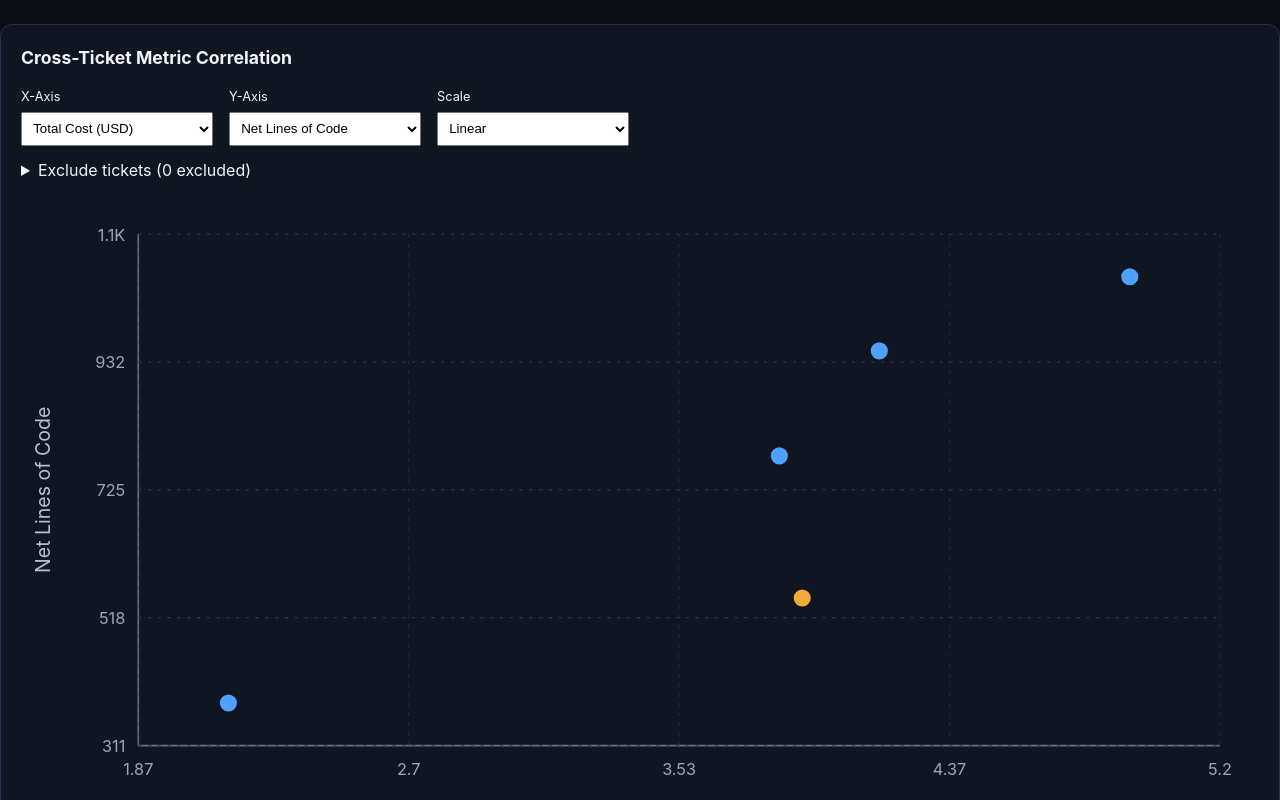
TicketScatterPlot › allows independent metric selection and switching to log scale
The image size is (1280, 800).
Select "Active Duration" in the dropdown labelled "X-Axis". click: x=117, y=129
box: top-left (21, 112), bottom-right (213, 146)
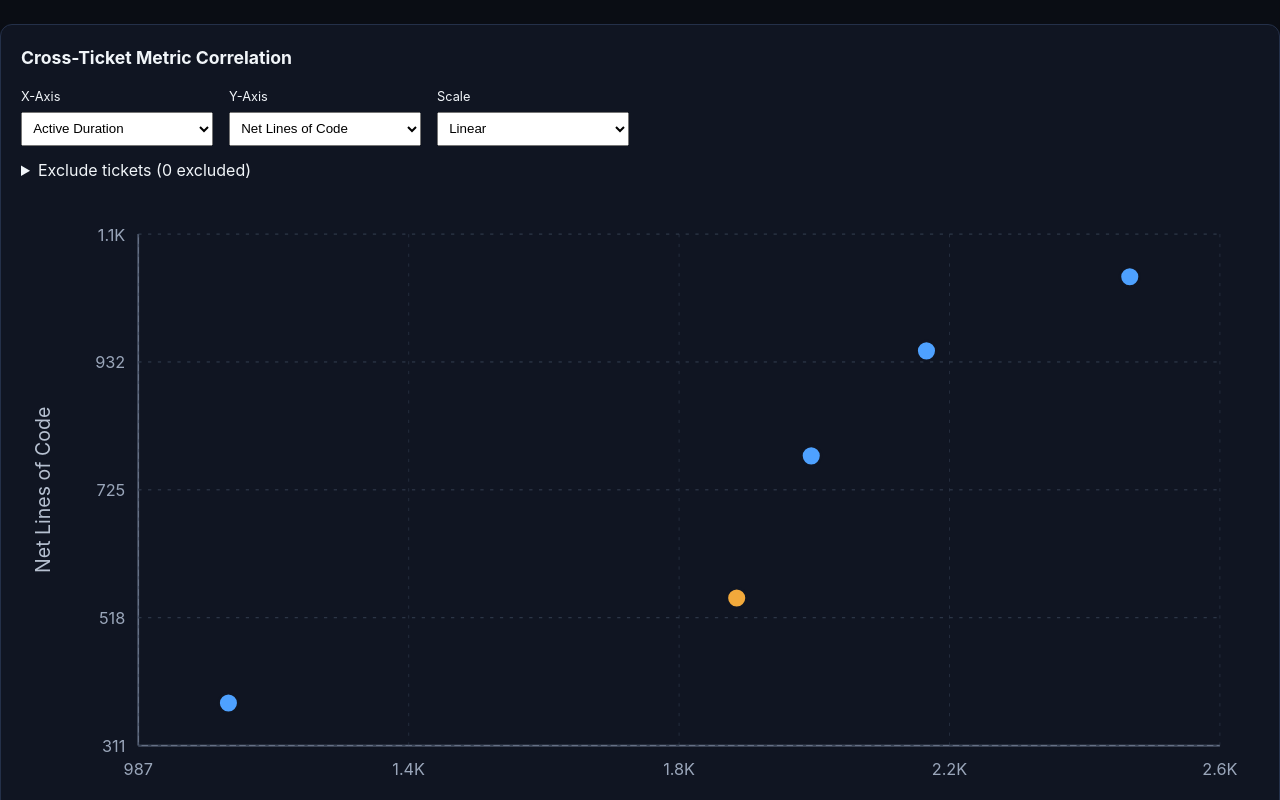
Select "Cache Hit Rate" in the dropdown labelled "Y-Axis". click: x=325, y=129
box: top-left (229, 112), bottom-right (421, 146)
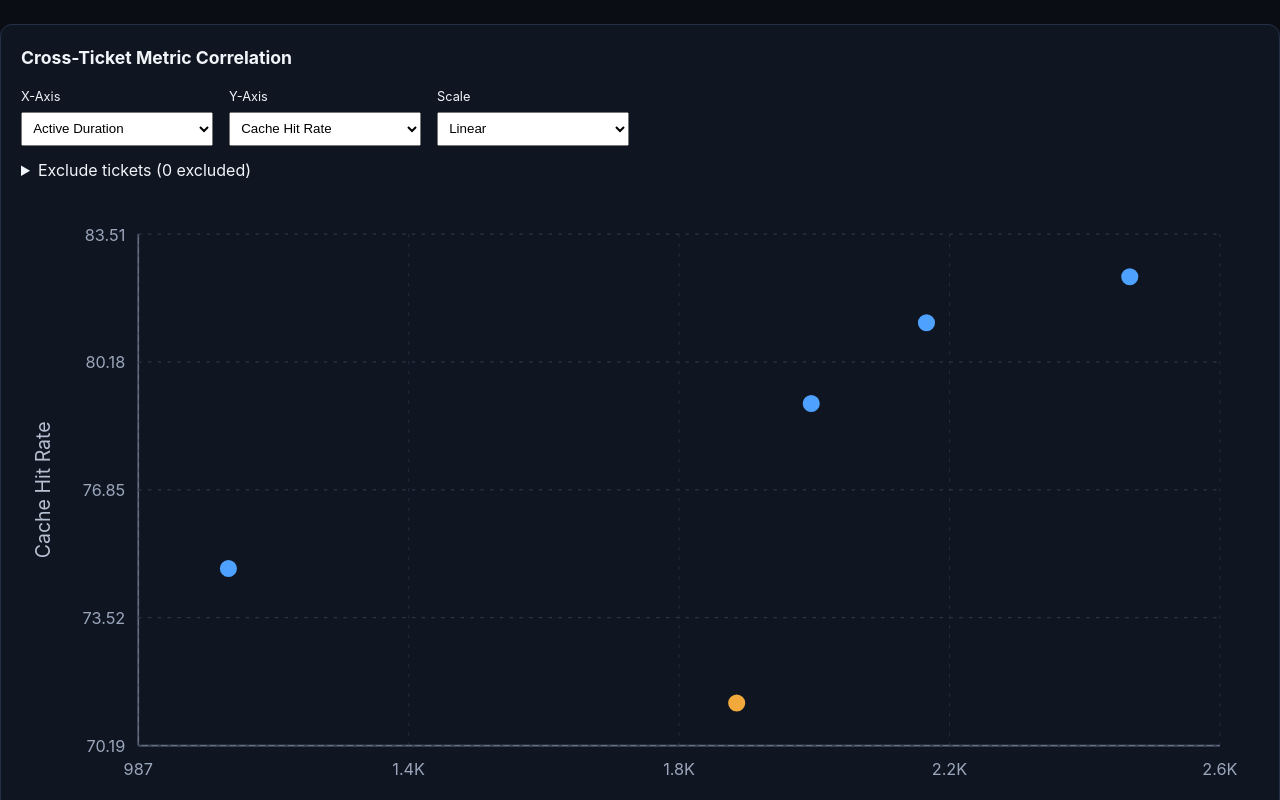
Select "Logarithmic" in the dropdown labelled "Scale". click: x=533, y=129
box: top-left (437, 112), bottom-right (629, 146)
(page scrolled)
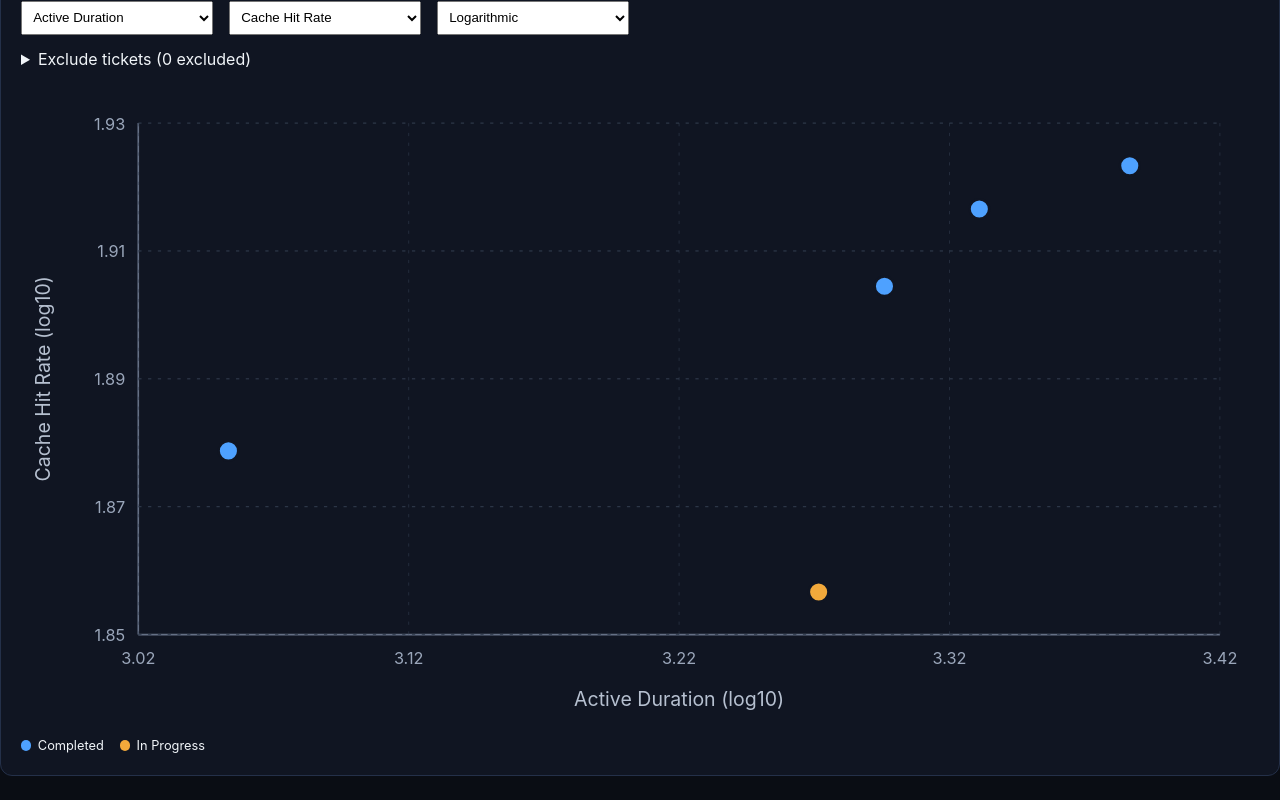
Check: the picture shows "(log10)", box top-left (716, 687), bottom-right (784, 711)
